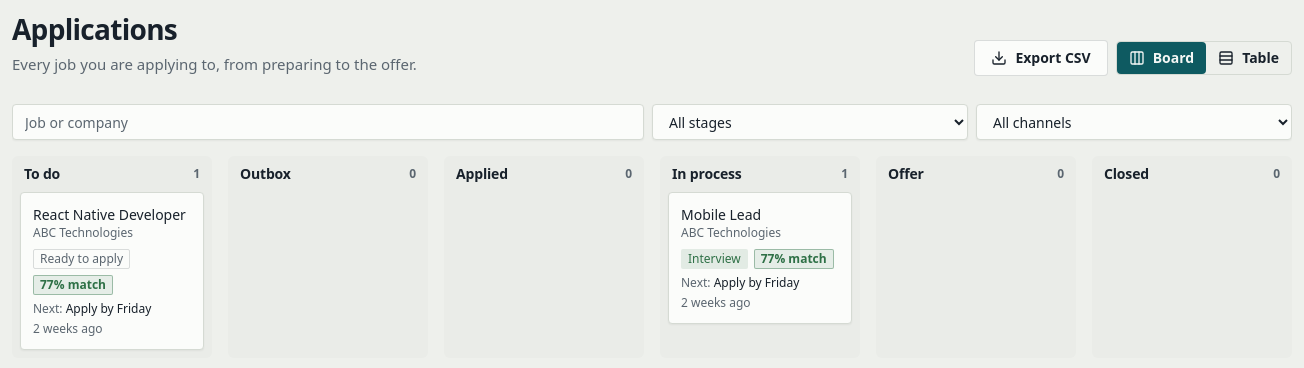
ApplicationsPage › shows a board grouped by stage and a table
Expected: the link "React Native Developer" is shown, [33,205,186,224]
Expected: the link "Mobile Lead" is shown, [681,205,761,224]
Click the button "Table".
click(1249, 58)  # box [1206,42,1291,74]
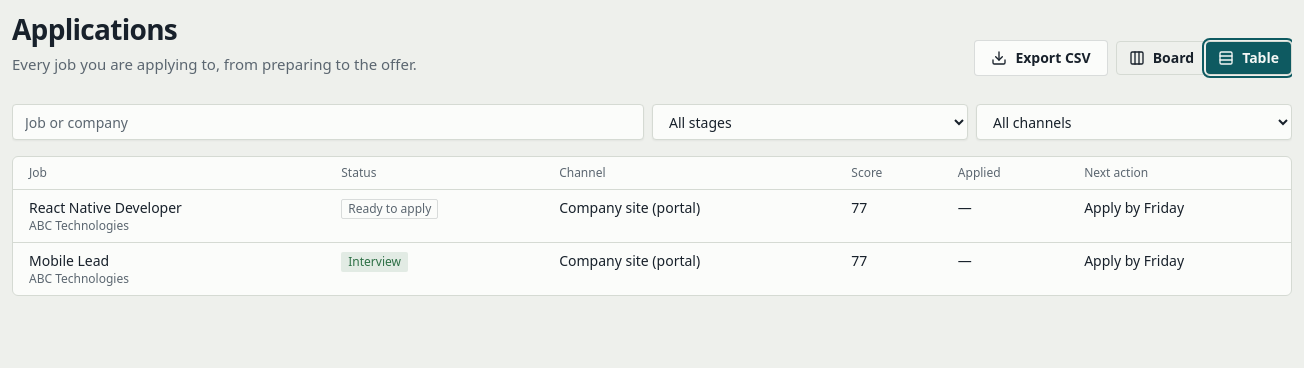
Now the column heading "Next action" is shown, box [1068,157,1291,190]
Now the text "Apply by Friday" is shown 2 times, box [1068,190,1291,243]; [1068,243,1291,295]
